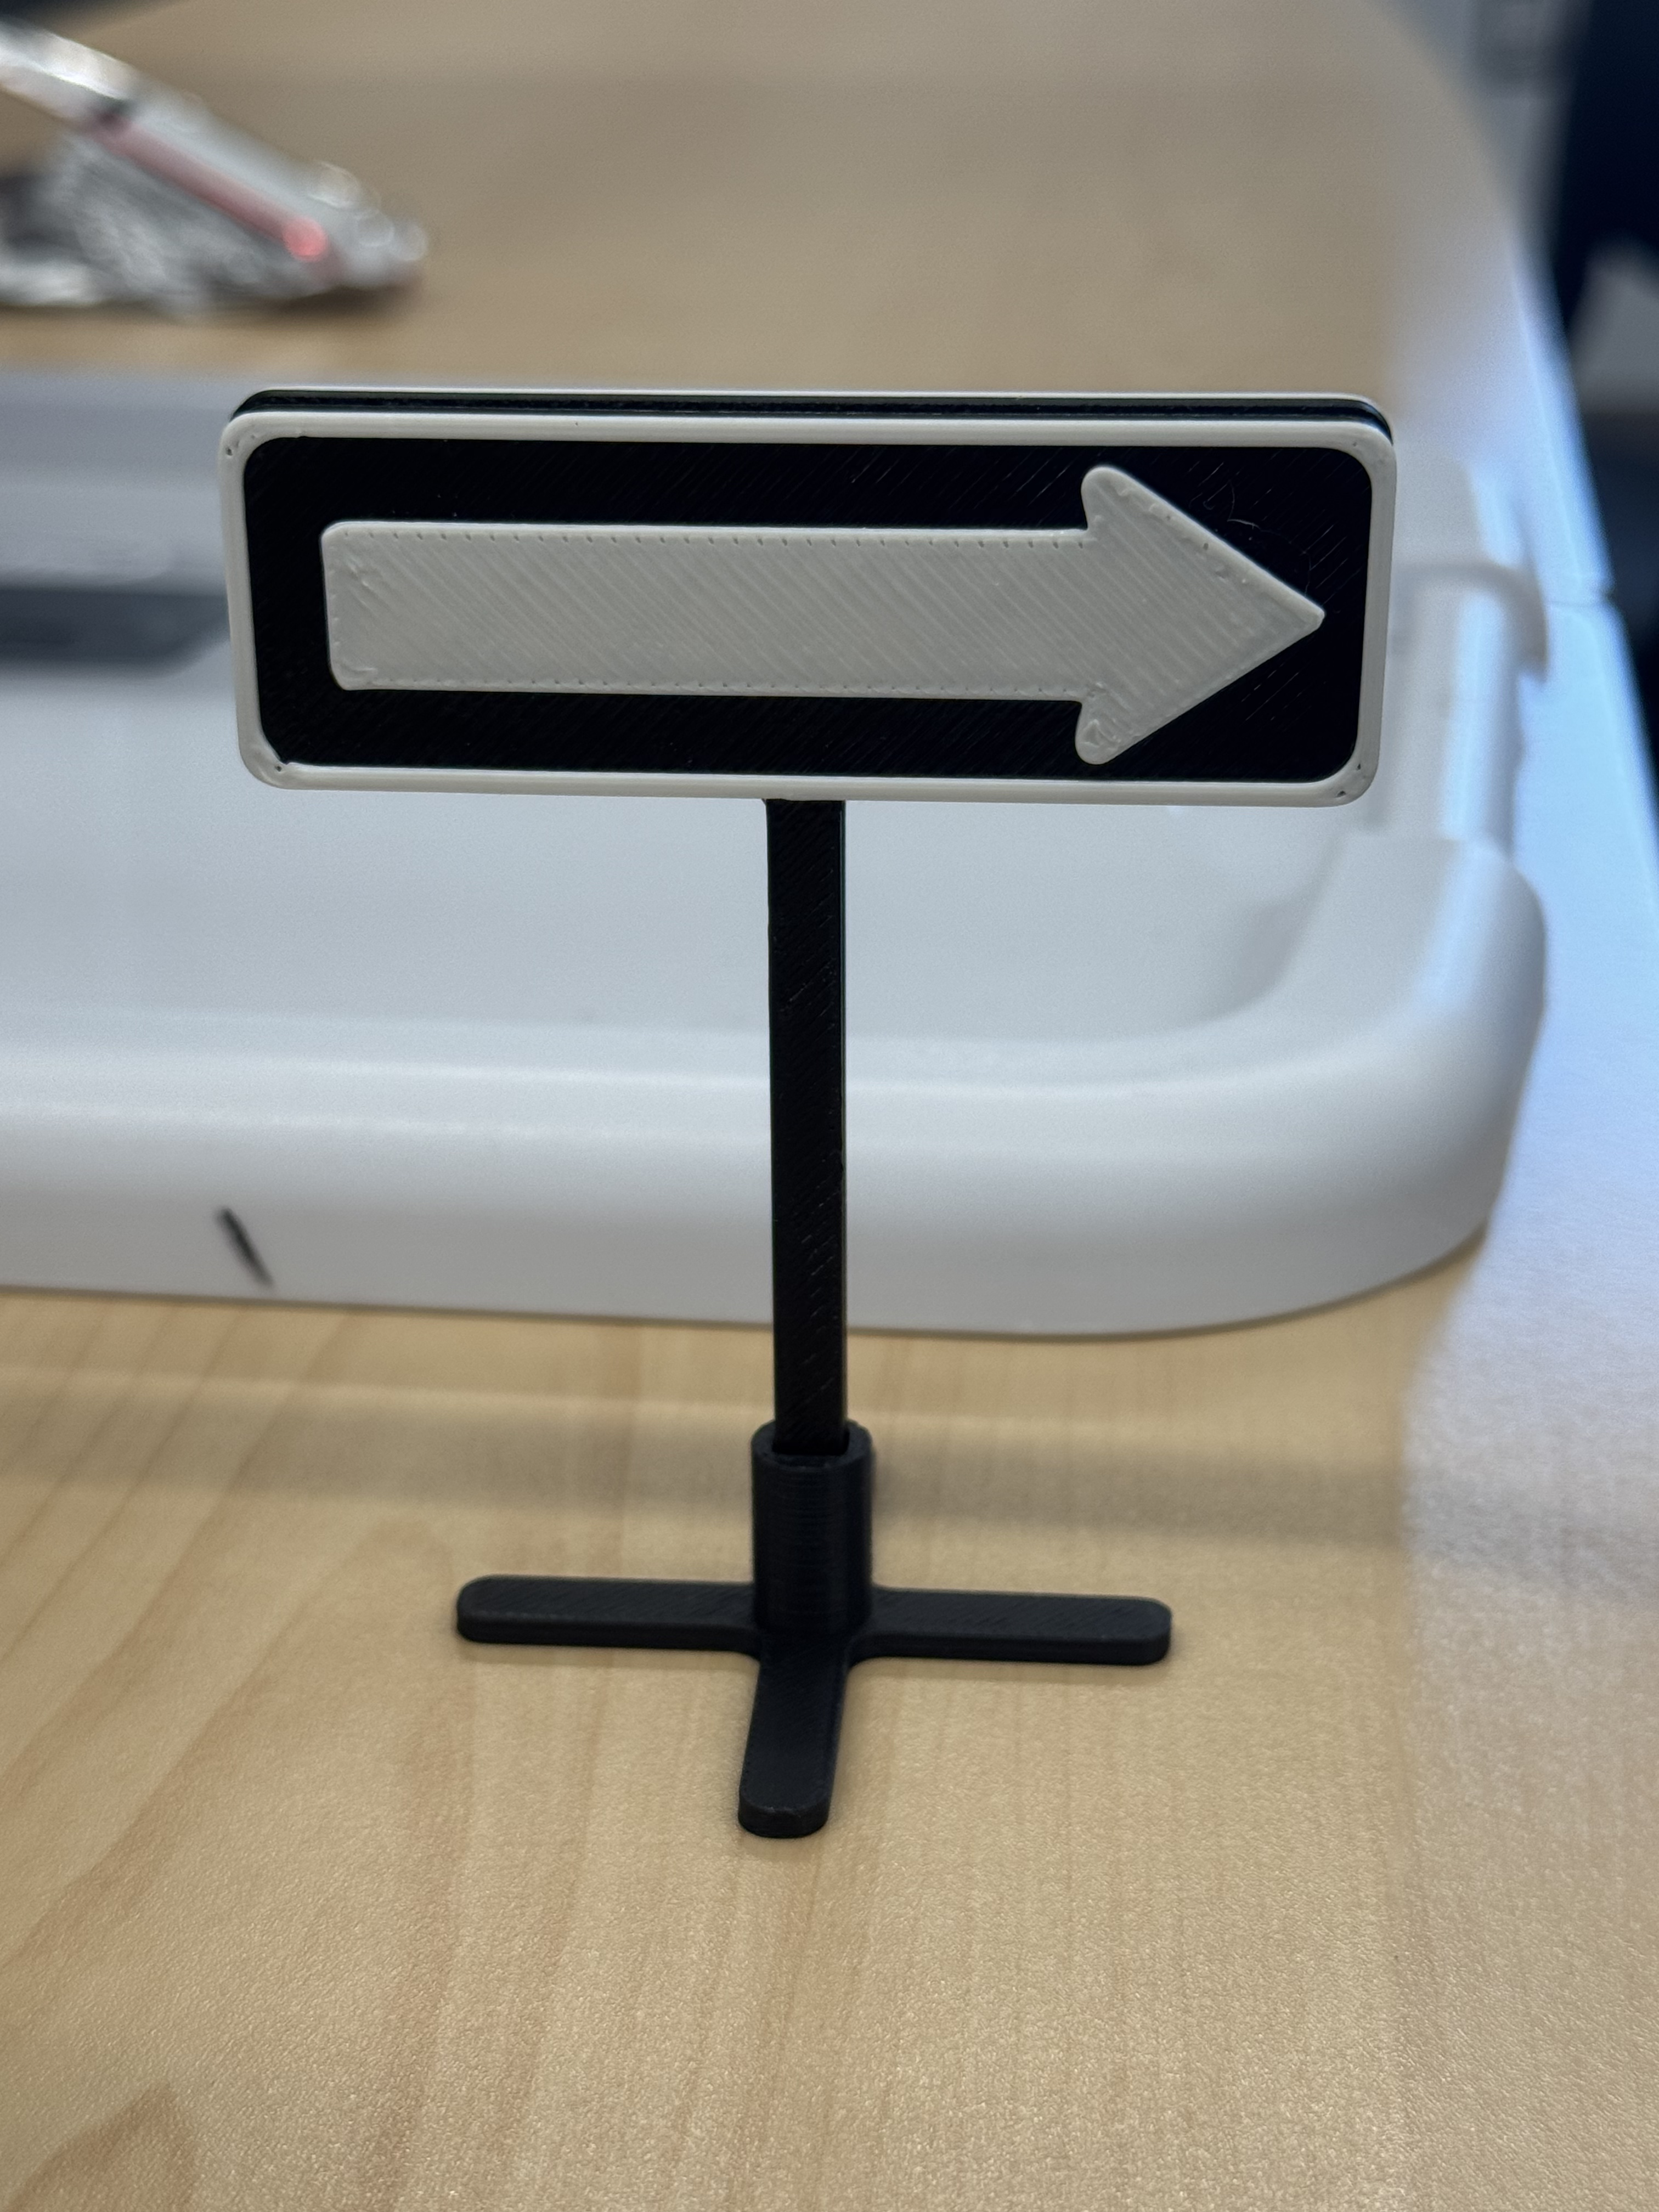sign_oneway_right: (218, 374, 1405, 1851)
